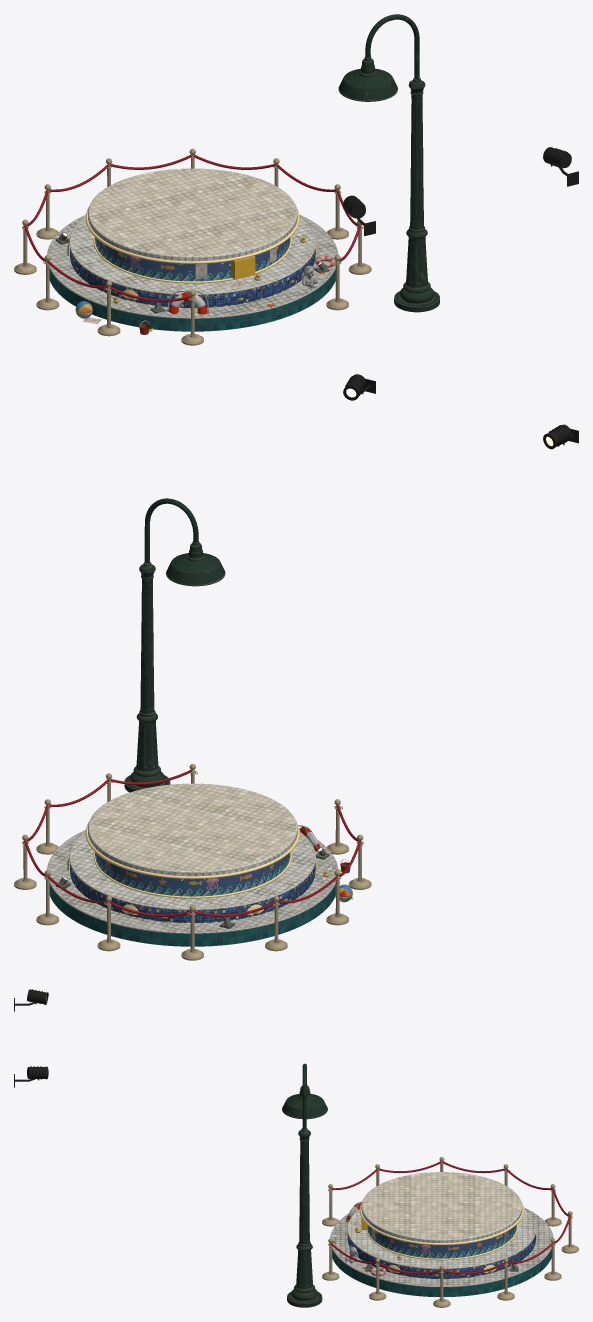
The model's file is sala_monumento.glb.
3 views of the same model, one above another, from view 1: azimuth 30°, elevation 25°; view 2: azimuth 150°, elevation 25°; view 3: azimuth 270°, elevation 25° (orthographic). The views are drawn at different scales.
Parts seen in each view (by area): view 1: amb_piedistallo, amb_lampione, sala_monumento_cordone, sala_monumento_fari, sala_monumento_offerte, ogg_salvagente_nave_36, sala_monumento_colonnina_0, sala_monumento_colonnina_7, sala_monumento_colonnina_10, sala_monumento_colonnina_2; view 2: amb_piedistallo, amb_lampione, sala_monumento_cordone, sala_monumento_fari; view 3: amb_piedistallo, amb_lampione, sala_monumento_cordone, sala_monumento_fari.
Boxes of the visible parts, <box> form: amb_piedistallo: <box>47,168,338,331</box>; amb_lampione: <box>338,14,439,312</box>; sala_monumento_cordone: <box>23,154,361,301</box>; sala_monumento_fari: <box>343,147,578,236</box>; sala_monumento_offerte: <box>83,247,329,334</box>; ogg_salvagente_nave_36: <box>167,290,208,314</box>; sala_monumento_colonnina_0: <box>326,255,348,310</box>; sala_monumento_colonnina_7: <box>14,219,36,274</box>; sala_monumento_colonnina_10: <box>181,290,203,345</box>; sala_monumento_colonnina_2: <box>326,184,348,239</box>; amb_piedistallo: <box>47,783,338,946</box>; amb_lampione: <box>124,498,225,792</box>; sala_monumento_cordone: <box>23,769,361,916</box>; sala_monumento_fari: <box>343,374,578,449</box>; amb_piedistallo: <box>330,1172,553,1297</box>; amb_lampione: <box>282,1063,327,1307</box>; sala_monumento_cordone: <box>329,1161,571,1274</box>; sala_monumento_fari: <box>14,989,48,1087</box>.
Size of what is drawn, in the model's own units: 6.41 by 5.87 by 13.2.
23 materials, 19 textured.
